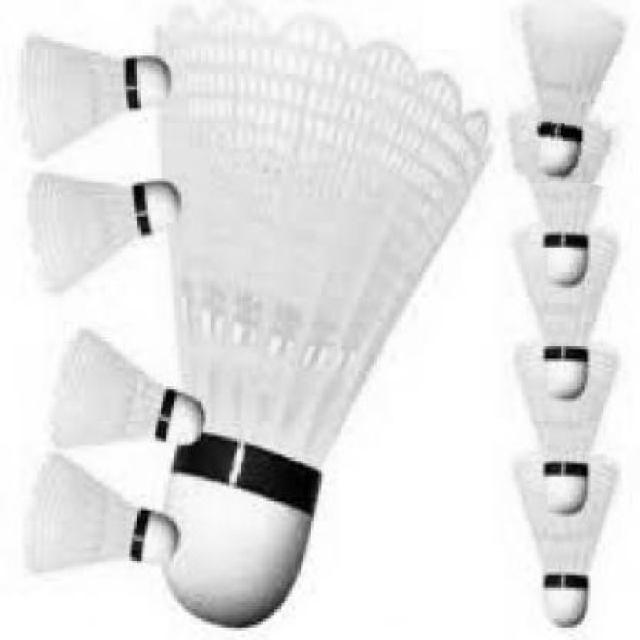Shuttlecock: (500, 0, 631, 183)
